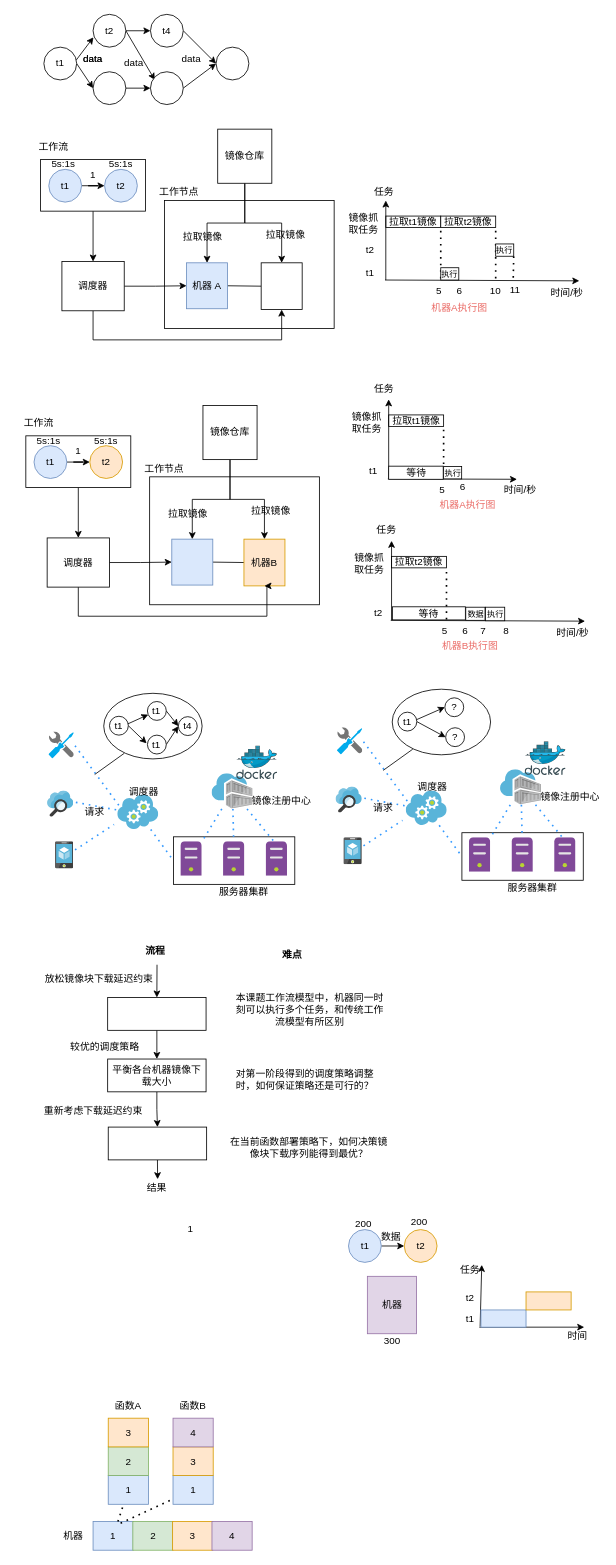
The diagram is 616 pixels wide and 1565 high, and some of its shapes have lost their labels. Each missing label, with the box of its shape:
t1执行: (480, 1309, 526, 1327)
t2执行: (525, 1291, 571, 1310)
t3: (92, 71, 126, 105)
t5: (150, 71, 183, 105)
t6: (215, 46, 249, 80)
工作流调度算法变体: (107, 997, 206, 1030)
机器 B: (260, 262, 302, 310)
机器A: (171, 538, 213, 585)
调整函数开始时间: (107, 1126, 207, 1160)
